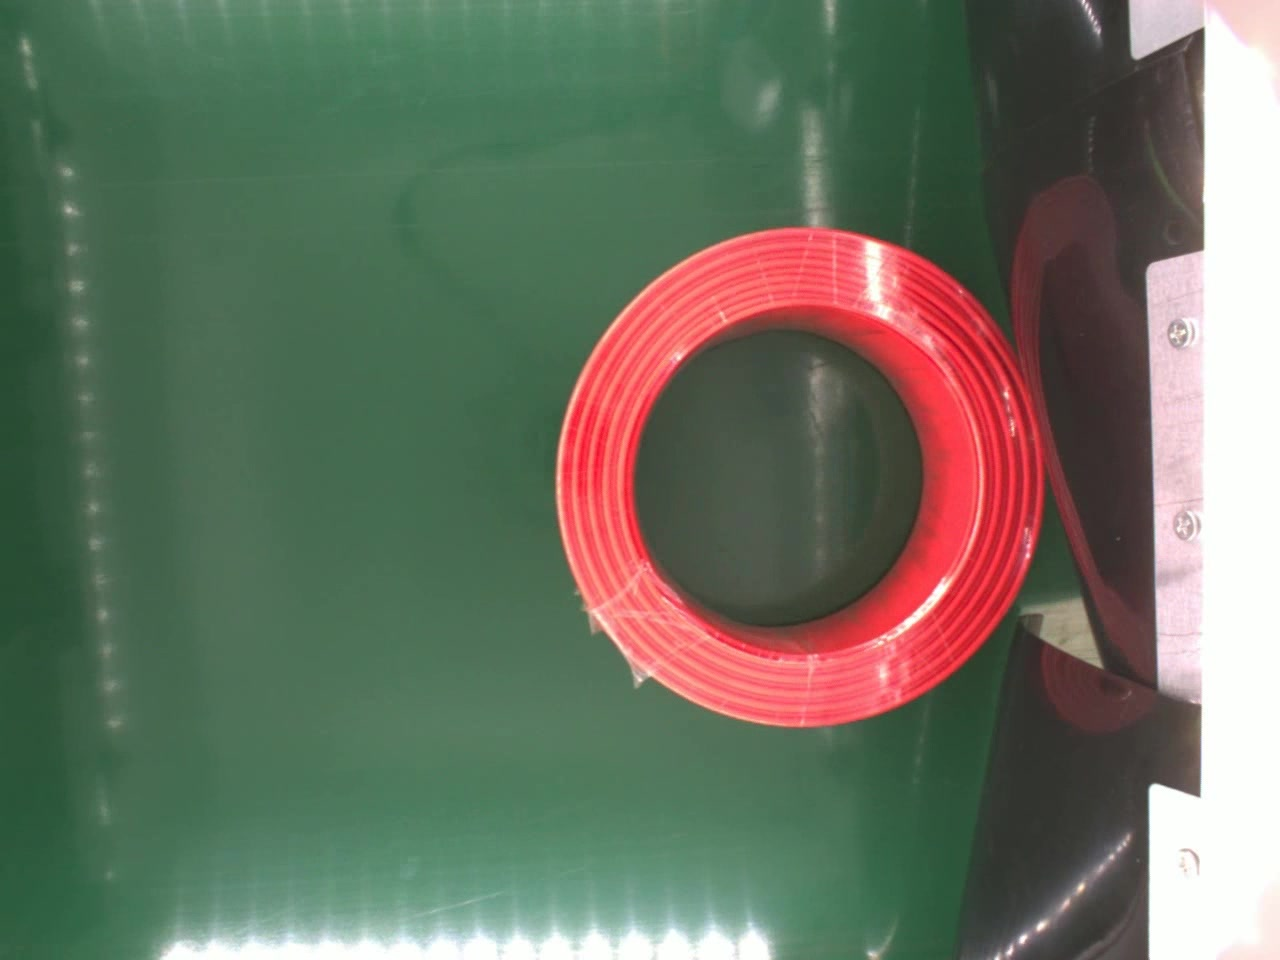red: (553, 225, 1050, 728)
